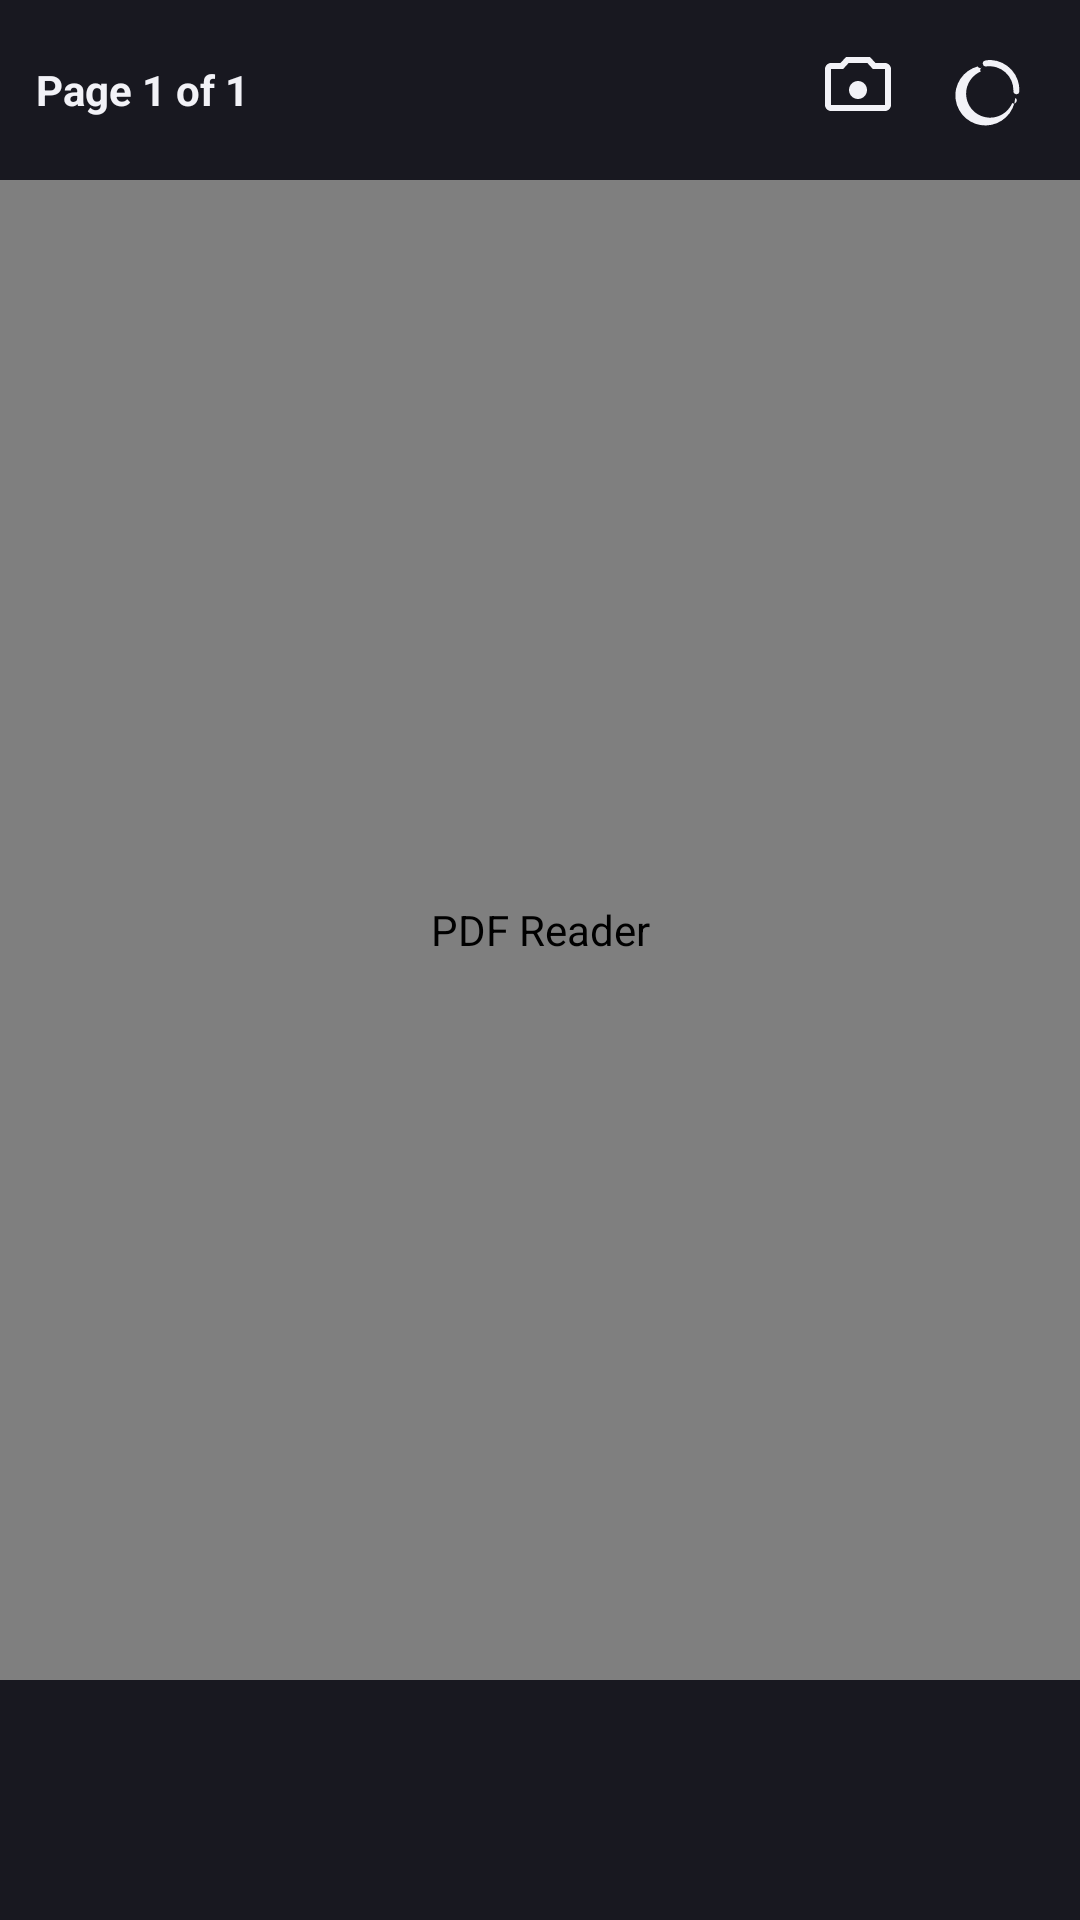

Locate icon controls on the screen. Image size 1080×1920, boxes as (x1, y1, x2, y2).
camera: (825, 57, 891, 111)
